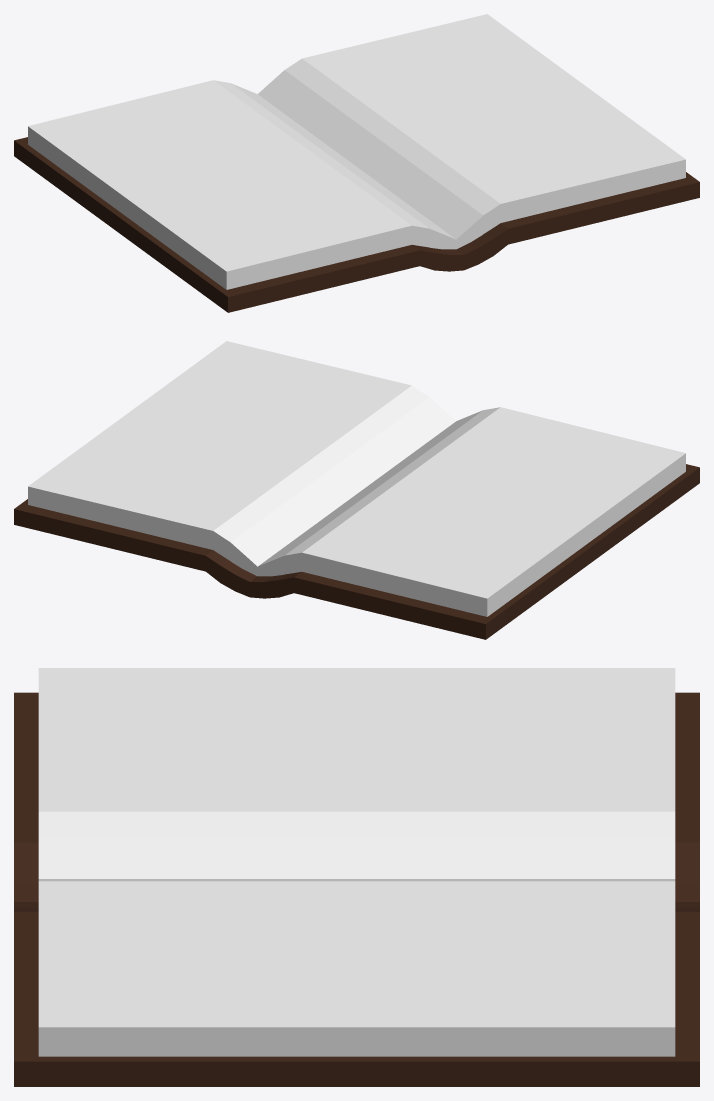
File: Knjiga.fbx
3 views of the same model, one above another, from view 1: azimuth 30°, elevation 25°; view 2: azimuth 150°, elevation 25°; view 3: azimuth 270°, elevation 25° (orthographic). The views are drawn at different scales.
Parts seen in each view (by area): view 1: Cube; view 2: Cube; view 3: Cube.
Boxes of the visible parts, x1,y1,x2,y2 form: Cube: (14,14,699,312); Cube: (14,341,699,639); Cube: (14,668,699,1086).
Size of the model in its own units: 1069 by 108 by 840.
Materials: 1 (1 with a texture image).
